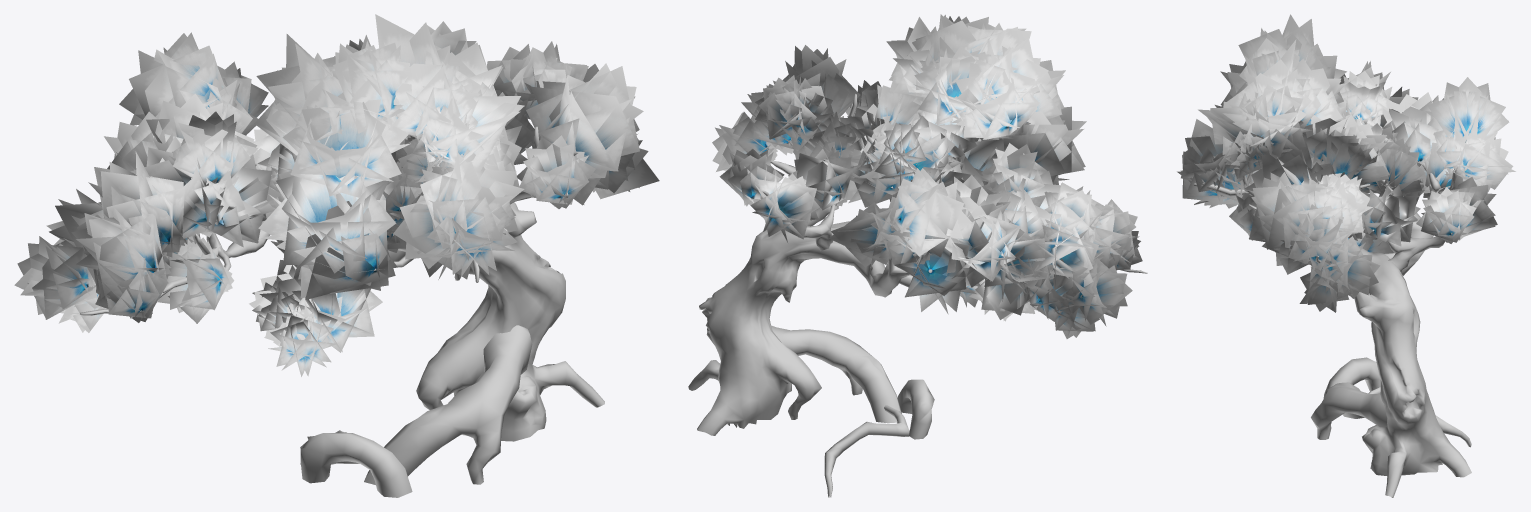
Rendered from CLX_shu_11.FBX.
The picture shows the model from 3 angles, left to right: view 1: azimuth 30°, elevation 25°; view 2: azimuth 150°, elevation 25°; view 3: azimuth 270°, elevation 25°; orthographic projection. The views are drawn at different scales.
Parts seen in each view (by area): view 1: CLX_shu_11; view 2: CLX_shu_11; view 3: CLX_shu_11.
Boxes of the visible parts, bbox=[...] form: CLX_shu_11: bbox=[14, 14, 659, 497]; CLX_shu_11: bbox=[688, 14, 1147, 497]; CLX_shu_11: bbox=[1177, 14, 1515, 497].
Bounding box in the file's own units: 21.58 × 19.68 × 15.55.
